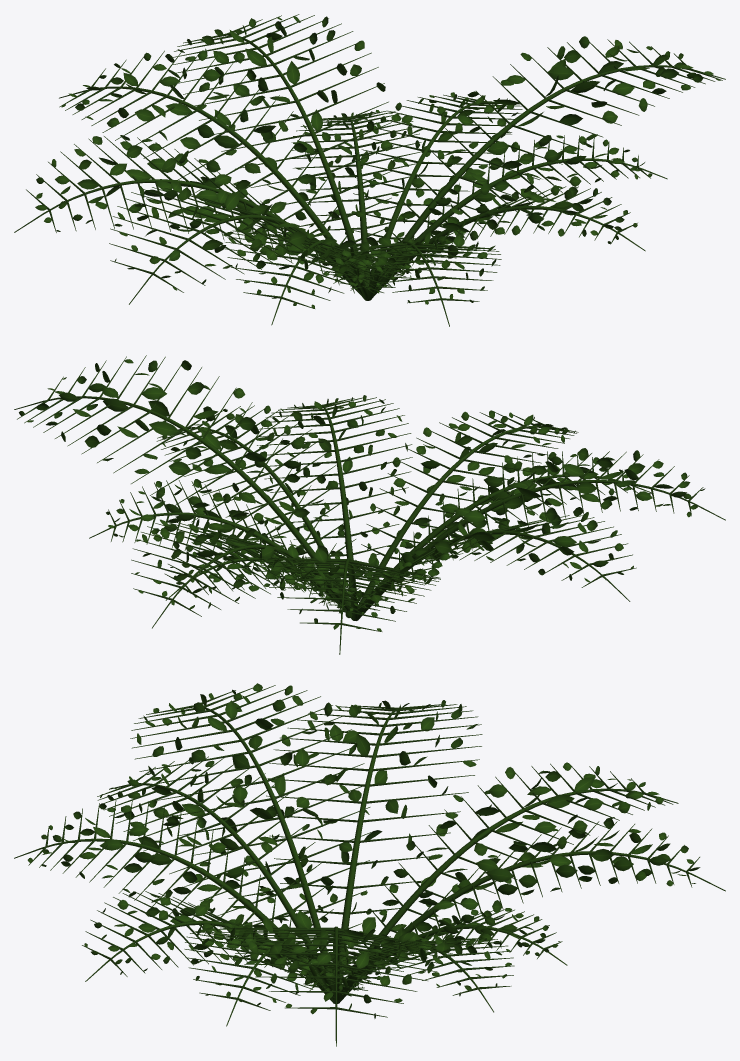
The model's file is fern_large_lod1.gltf.
3 views of the same model, one above another, from view 1: azimuth 30°, elevation 25°; view 2: azimuth 150°, elevation 25°; view 3: azimuth 270°, elevation 25° (orthographic). The views are drawn at different scales.
Visible parts, largest first — view 1: fern_large_lod1; view 2: fern_large_lod1; view 3: fern_large_lod1.
Boxes of the visible parts, box(x1,y1,x2,y2) form: fern_large_lod1: box(14, 14, 725, 326); fern_large_lod1: box(14, 355, 725, 654); fern_large_lod1: box(14, 683, 725, 1046).
Bounding box in the file's own units: 1.8 × 0.4609 × 1.56.
1 material, 1 textured.
